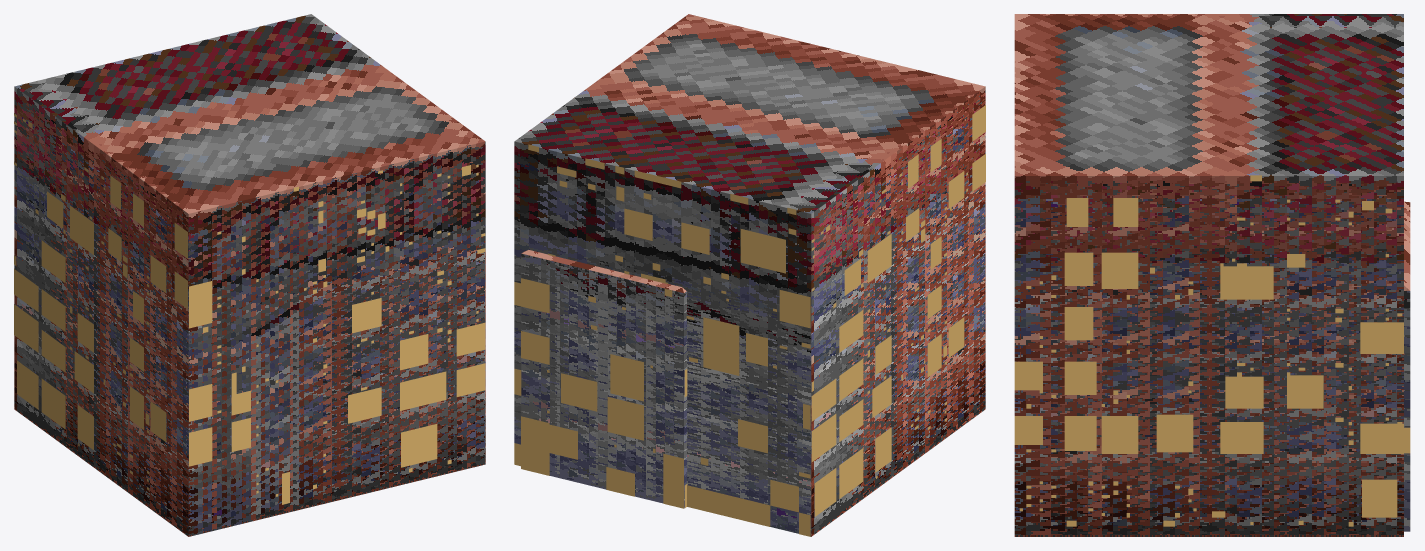
File: dum_46_obchody.glb
3 renders of one model, left to right at view 1: azimuth 30°, elevation 25°; view 2: azimuth 150°, elevation 25°; view 3: azimuth 270°, elevation 25°, orthographic. The views are drawn at different scales.
Parts seen in each view (by area): view 1: object 1, noc; view 2: object 1, noc; view 3: object 1, noc.
Boxes of the visible parts, box(x1,y1,x2,y2) form: object 1: box(14, 14, 485, 536); noc: box(14, 113, 485, 504); object 1: box(514, 14, 985, 536); noc: box(514, 105, 985, 536); object 1: box(1014, 14, 1410, 536); noc: box(1014, 175, 1410, 526).
Size of the model in its own units: 14.38 by 14.94 by 14.84.
1 material, 1 textured.
